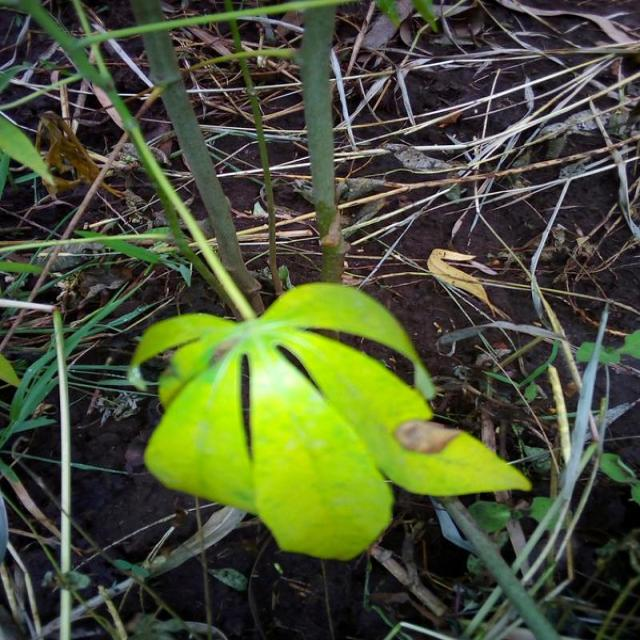cassava leaf: (129, 280, 532, 561)
